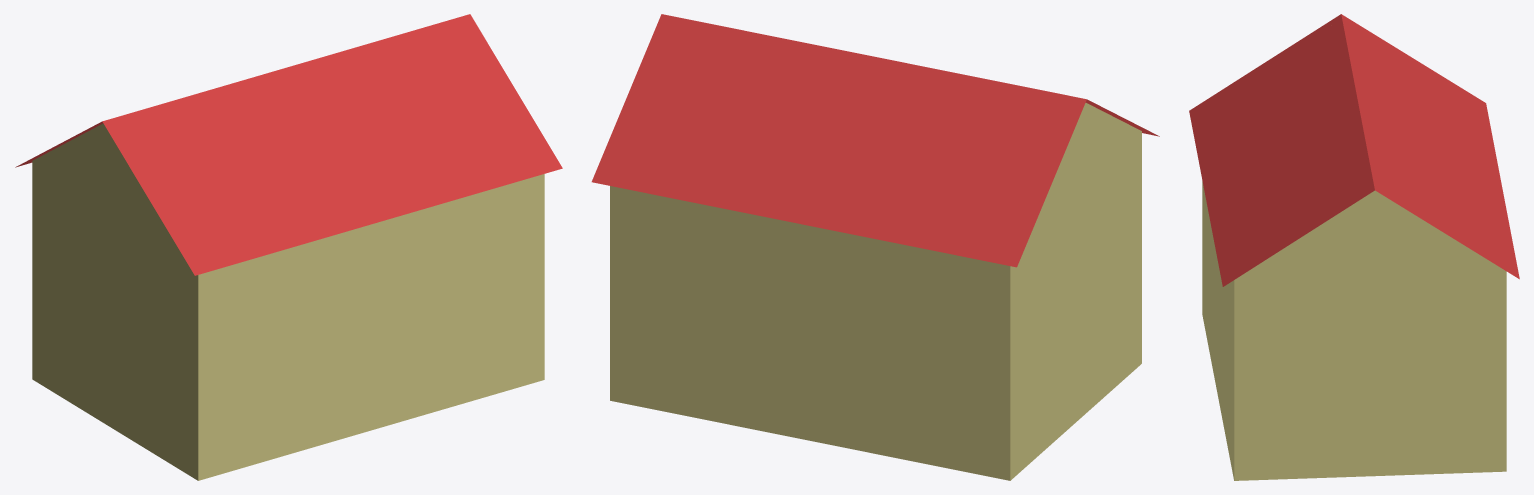
3 views of the same model, side by side, from view 1: azimuth 30°, elevation 25°; view 2: azimuth 150°, elevation 25°; view 3: azimuth 270°, elevation 25° (orthographic). The views are drawn at different scales.
Bounding box in the file's own units: 17.88 × 13.39 × 13.
